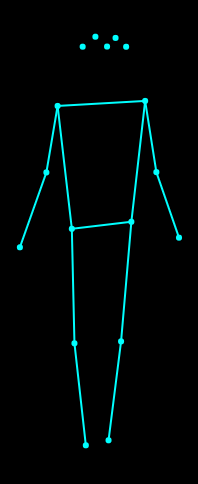mountain: (13, 21, 186, 454)
